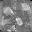people: (0, 17, 12, 28), (2, 7, 14, 16), (15, 17, 23, 26)
